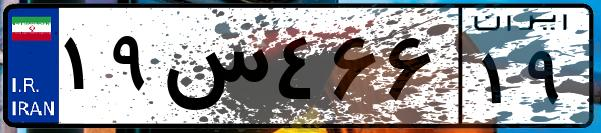1: (57, 26, 110, 100), (475, 38, 525, 113)
4: (270, 28, 330, 110)
6: (385, 28, 445, 110), (330, 28, 385, 110)
9: (525, 38, 570, 115), (110, 28, 158, 98)
س: (158, 20, 270, 120)
